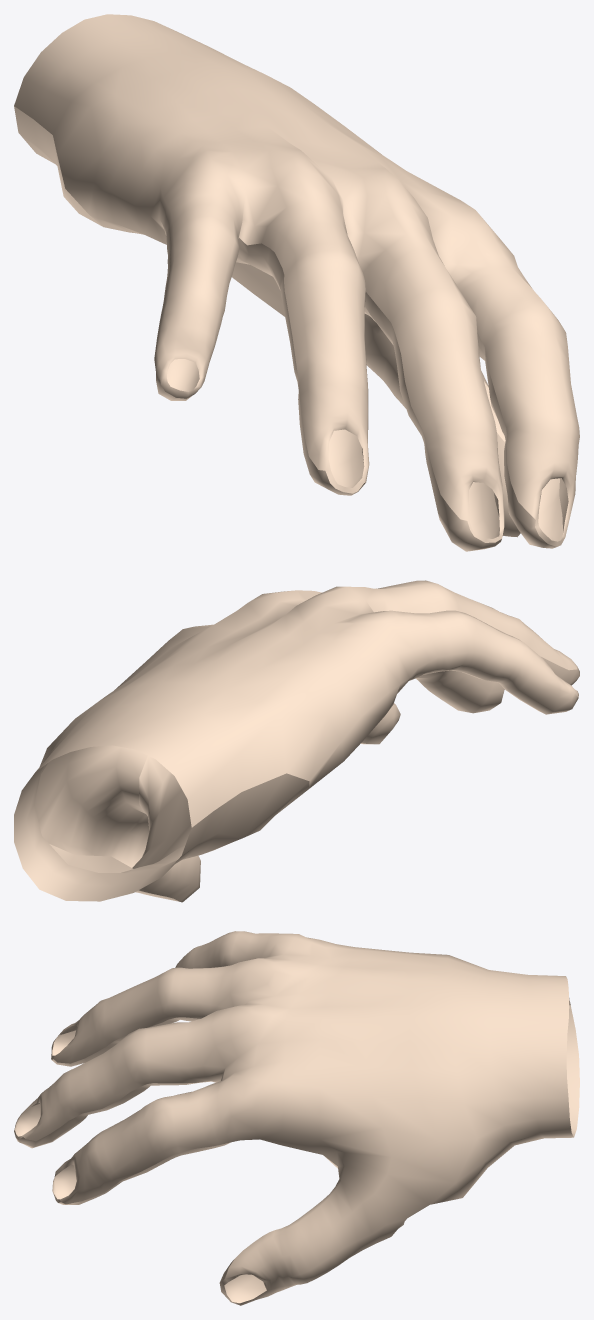
File: mano_r_abierta.glb
3 renders of one model, top to bottom at view 1: azimuth 30°, elevation 25°; view 2: azimuth 150°, elevation 25°; view 3: azimuth 270°, elevation 25°, orthographic. The views are drawn at different scales.
Parts seen in each view (by area): view 1: mano_r_abierta; view 2: mano_r_abierta; view 3: mano_r_abierta.
Part boxes in pixels (bbox=[...]): mano_r_abierta: bbox=[14, 14, 579, 551]; mano_r_abierta: bbox=[14, 580, 579, 902]; mano_r_abierta: bbox=[14, 931, 579, 1305].
Size of the model in its own units: 0.1103 by 0.0988 by 0.1803.
